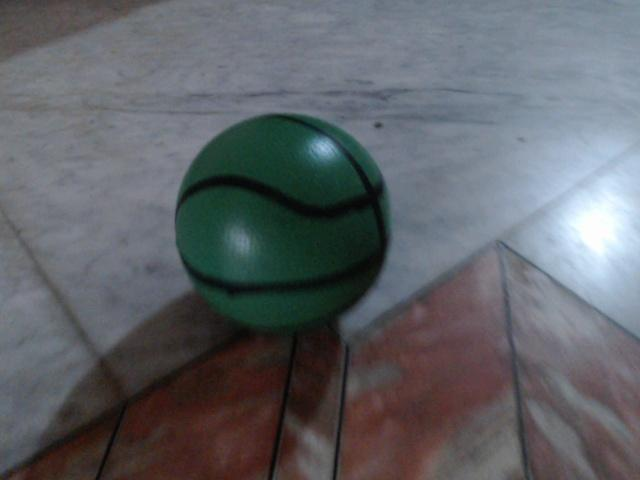Sports-Ball: (167, 109, 396, 334)
